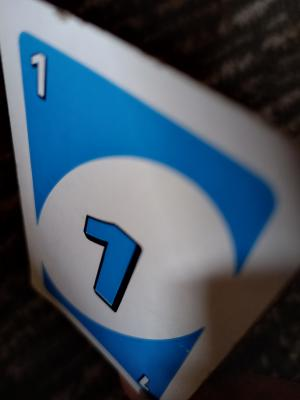blue: (21, 62, 210, 367)
num_1: (15, 43, 65, 109)
